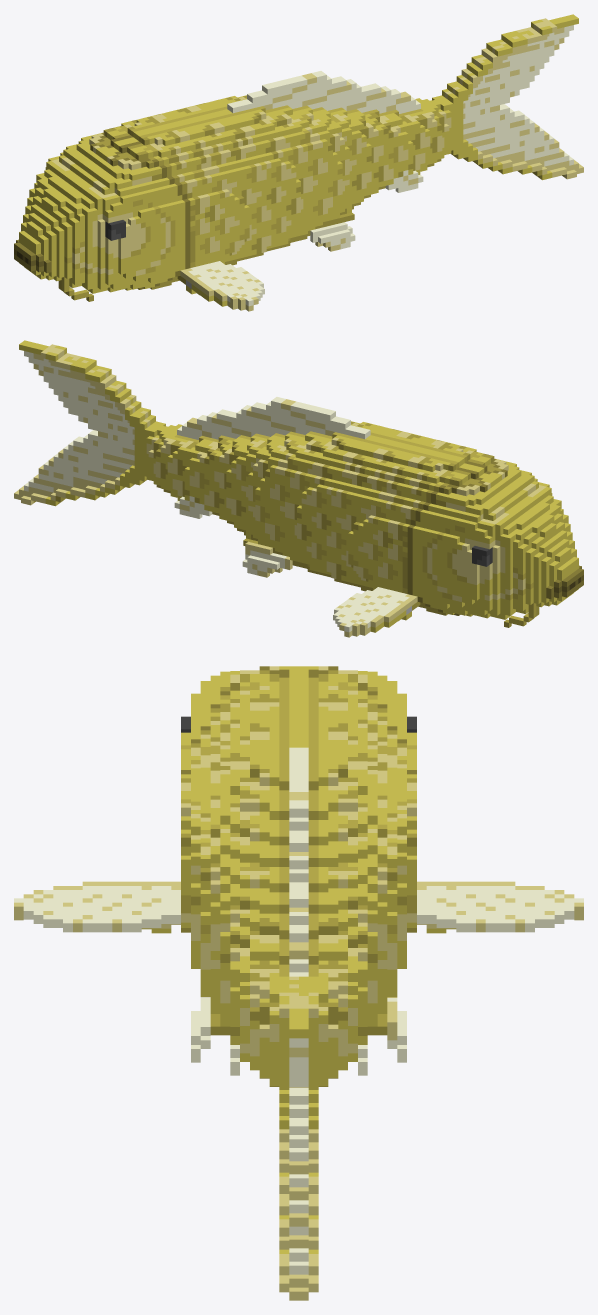
Rendered from yamabuki_ogon.obj.
3 views of the same model, one above another, from view 1: azimuth 30°, elevation 25°; view 2: azimuth 150°, elevation 25°; view 3: azimuth 270°, elevation 25° (orthographic). The views are drawn at different scales.
Size of the model in its own units: 11.3 by 3.1 by 5.8.
1 material, 1 textured.
